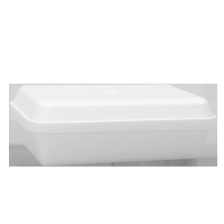foam_box: (8, 83, 217, 166)
